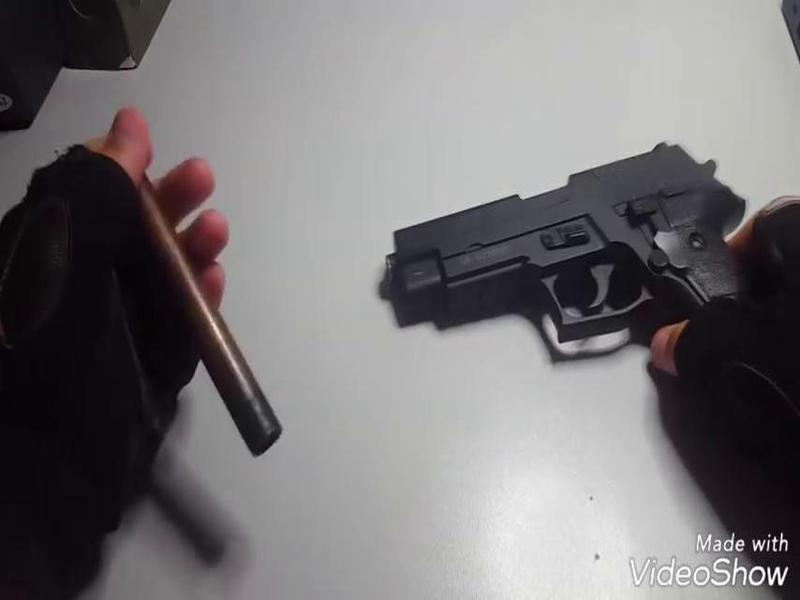Pistola: (326, 94, 799, 378)
